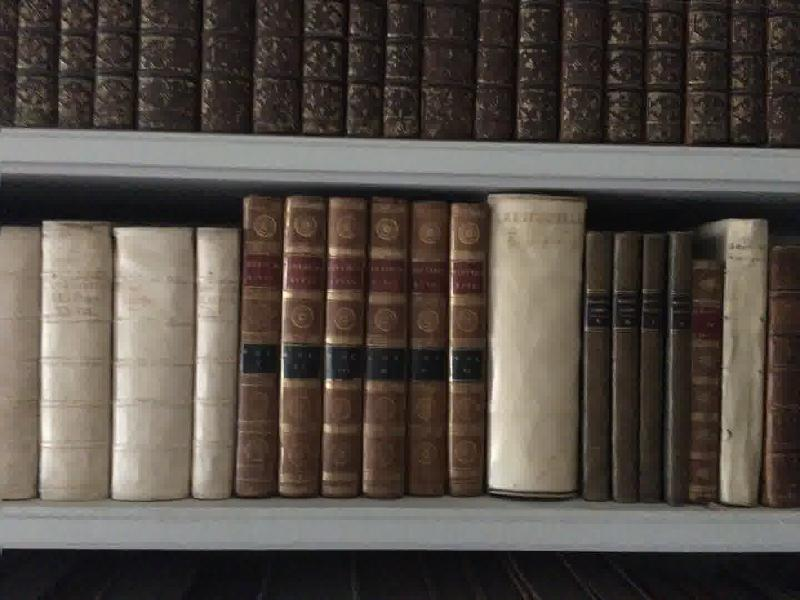Kk4-14: (476, 180, 588, 516)
Kk4-15_16: (578, 223, 645, 510)
Kk4-17_18: (641, 222, 694, 508)
Kk4-19: (688, 247, 726, 507)
Kk4-20: (720, 213, 770, 514)
Kk4-21_22: (766, 239, 800, 514)
Kk4-3_7: (2, 197, 239, 512)
Kk4-8_13: (227, 182, 494, 515)
